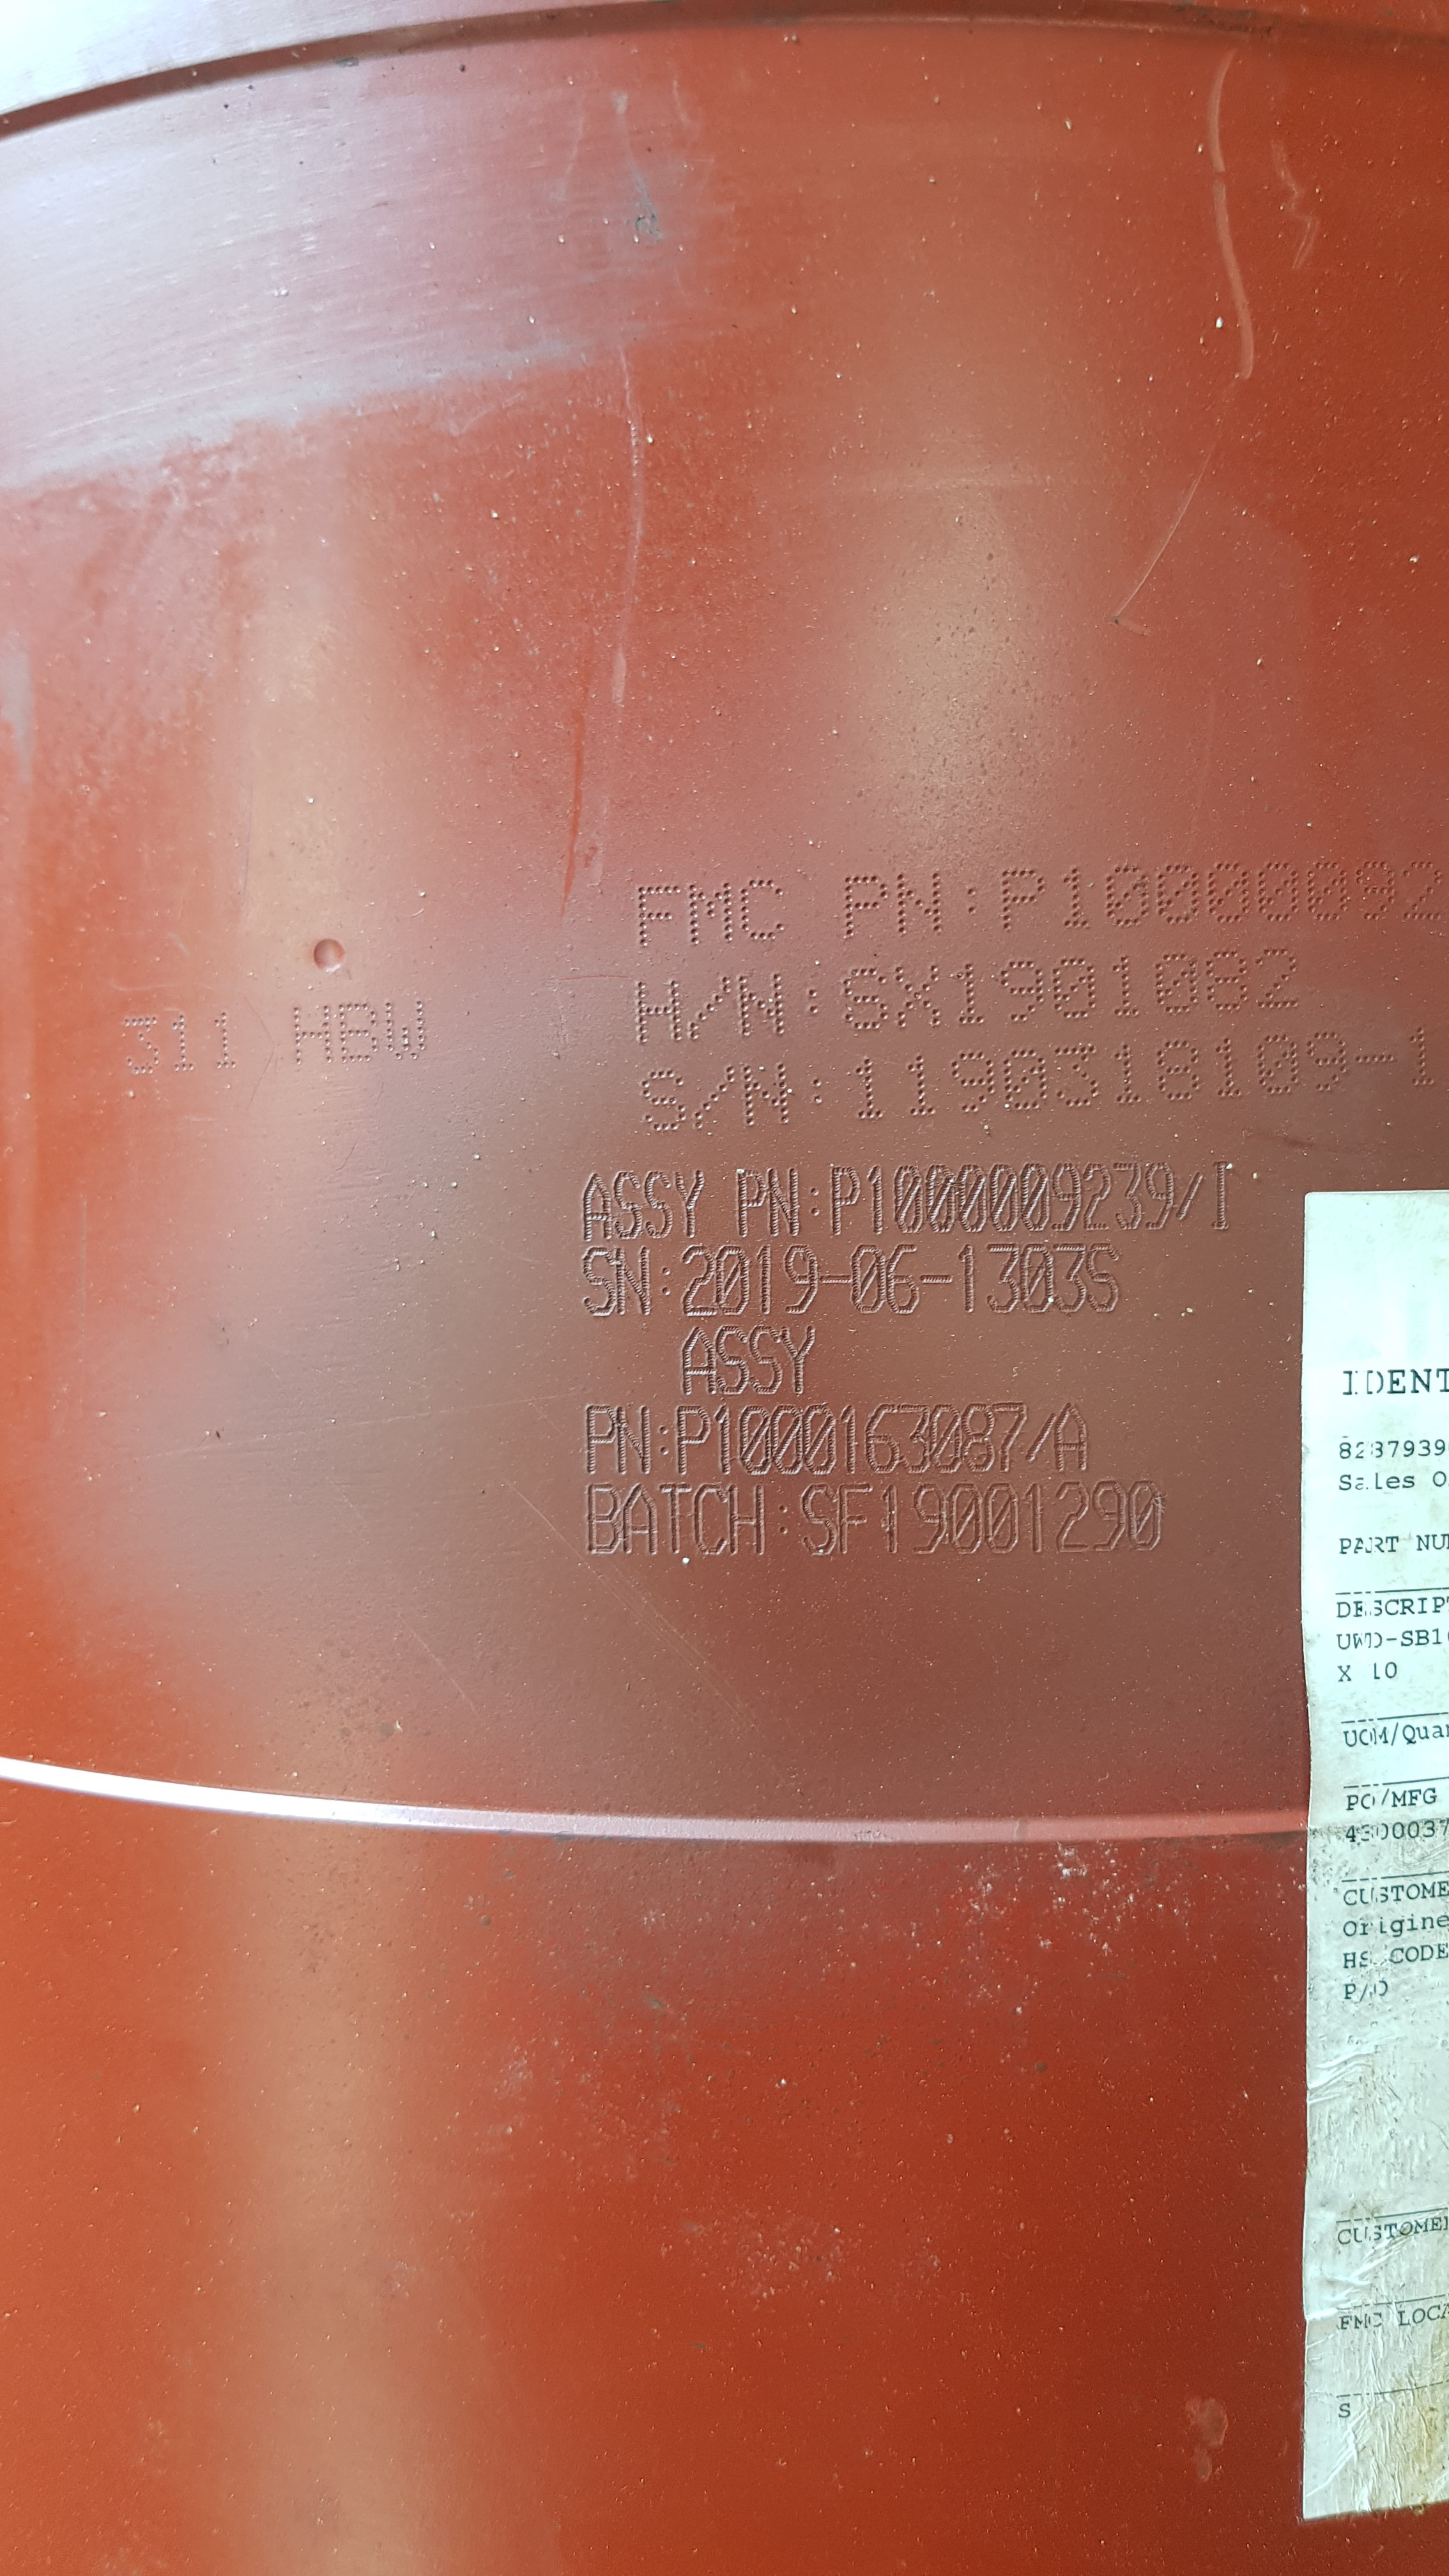character: (111, 1007, 173, 1090), (623, 878, 688, 955), (886, 863, 952, 941), (635, 1065, 699, 1139), (886, 959, 948, 1033), (1099, 856, 1157, 932), (835, 961, 893, 1037), (994, 954, 1053, 1030), (1046, 952, 1104, 1028), (736, 874, 791, 954), (839, 867, 892, 948), (734, 973, 791, 1049), (1249, 943, 1307, 1016), (740, 1060, 798, 1132), (725, 1479, 775, 1564), (679, 881, 740, 950), (1148, 950, 1205, 1023), (1049, 1044, 1106, 1116), (375, 996, 435, 1063), (1198, 948, 1258, 1016), (1001, 1042, 1054, 1118), (998, 865, 1053, 938), (331, 996, 384, 1070), (632, 975, 685, 1047), (1155, 1039, 1207, 1113), (609, 1244, 655, 1325), (579, 1481, 625, 1562), (692, 1060, 743, 1132), (1307, 1026, 1355, 1104), (1254, 856, 1304, 931), (1104, 1039, 1150, 1118), (945, 1051, 1001, 1115), (686, 973, 734, 1047), (1256, 1033, 1307, 1102), (1053, 1479, 1095, 1562), (669, 1401, 713, 1481), (832, 1479, 876, 1559), (1104, 950, 1150, 1024), (897, 1051, 945, 1122), (653, 1479, 695, 1559), (285, 998, 336, 1063), (909, 1479, 950, 1560), (764, 1164, 807, 1242), (1152, 863, 1203, 927), (1352, 858, 1401, 924), (847, 1244, 888, 1323), (1090, 1479, 1129, 1562), (1401, 856, 1449, 924), (844, 1053, 888, 1125), (614, 1399, 653, 1481), (690, 1481, 729, 1562), (800, 1481, 839, 1562), (1208, 1159, 1246, 1244), (948, 1479, 985, 1564), (1306, 856, 1350, 927), (950, 959, 994, 1030), (1086, 1240, 1125, 1320), (895, 1398, 934, 1477), (984, 1242, 1024, 1318), (777, 1329, 823, 1396), (1210, 856, 1254, 925), (166, 1007, 207, 1081), (672, 1168, 713, 1242), (1054, 1398, 1092, 1479), (1129, 1479, 1166, 1560), (1058, 860, 1097, 936), (621, 1481, 660, 1557), (207, 998, 244, 1077), (575, 1168, 612, 1247), (888, 1161, 925, 1240), (991, 1394, 1028, 1474), (1403, 1023, 1444, 1095), (1083, 1159, 1118, 1242), (610, 1166, 648, 1244), (1016, 1157, 1053, 1235), (679, 1244, 717, 1322), (1019, 1244, 1058, 1318), (582, 1244, 617, 1325), (952, 1161, 989, 1237), (826, 1164, 865, 1237), (676, 1325, 715, 1398), (867, 1401, 902, 1481), (805, 1399, 840, 1477), (580, 1398, 614, 1479), (740, 1403, 775, 1479), (745, 1325, 784, 1394), (717, 1244, 752, 1318), (715, 1323, 750, 1398), (1049, 1159, 1083, 1237), (950, 1244, 984, 1322), (985, 1481, 1019, 1559), (1019, 1479, 1053, 1557), (890, 1242, 922, 1323), (964, 1394, 996, 1476), (878, 1481, 909, 1562), (771, 1405, 807, 1477), (1212, 1035, 1249, 1104), (736, 1164, 770, 1240), (922, 1164, 955, 1240), (1054, 1240, 1088, 1316), (787, 1242, 819, 1322), (985, 1164, 1019, 1238), (860, 1162, 892, 1240), (1145, 1157, 1177, 1235), (1173, 1171, 1212, 1233), (1115, 1157, 1145, 1237), (1024, 1403, 1060, 1470), (708, 1403, 740, 1477), (644, 1168, 676, 1240), (754, 1240, 780, 1322), (934, 1401, 962, 1474), (839, 1401, 863, 1481), (1352, 1044, 1401, 1072), (920, 1269, 955, 1292), (819, 1263, 851, 1288)
